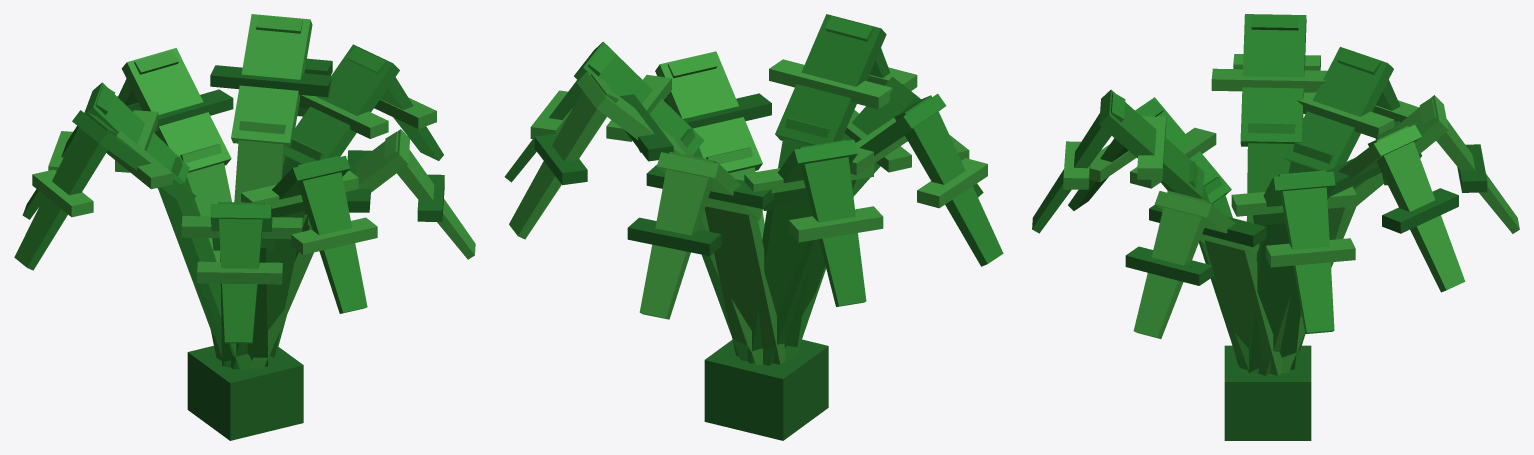
File: fern.glb
The picture shows the model from 3 angles, left to right: view 1: azimuth 30°, elevation 25°; view 2: azimuth 150°, elevation 25°; view 3: azimuth 270°, elevation 25°; orthographic projection. The views are drawn at different scales.
Parts seen in each view (by area): view 1: fern; view 2: fern; view 3: fern.
Part boxes in pixels (x1,y1,x2,y2): fern: (14,14,475,440); fern: (504,14,1003,440); fern: (1032,14,1519,440).
Bounding box in the file's own units: 1.43 × 1.03 × 1.35.
